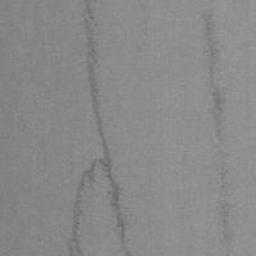Inclusion: (65, 0, 134, 256), (204, 14, 225, 142), (221, 205, 229, 242)
